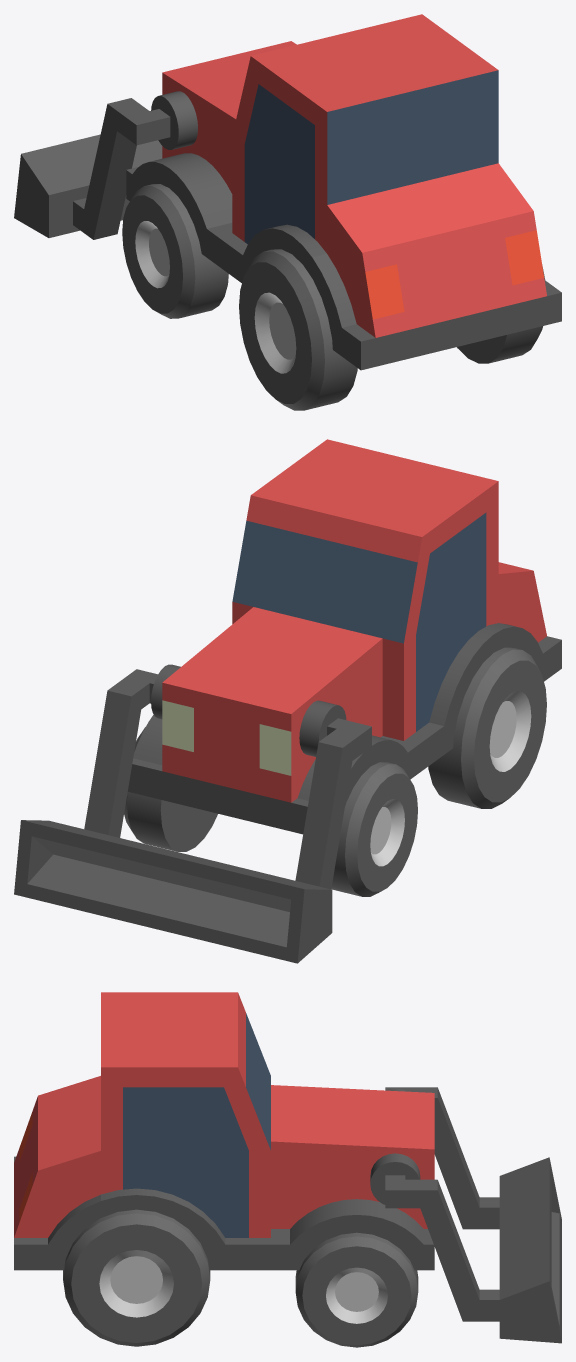
The model's file is carTractorShovel.fbx.
3 renders of one model, top to bottom at view 1: azimuth 30°, elevation 25°; view 2: azimuth 150°, elevation 25°; view 3: azimuth 270°, elevation 25°, orthographic. The views are drawn at different scales.
Visible parts, largest first — view 1: body 10, shovel, wheelBackLeft 10, wheelFrontLeft 10, wheelBackRight 10; view 2: body 10, shovel, wheelBackLeft 10, wheelFrontLeft 10, wheelFrontRight 10; view 3: body 10, shovel, wheelBackRight 10, wheelFrontRight 10.
Boxes of the visible parts, bbox=[...] form: body 10: bbox=[126, 14, 561, 370]; shovel: bbox=[14, 91, 197, 239]; wheelBackLeft 10: bbox=[239, 249, 357, 410]; wheelFrontLeft 10: bbox=[122, 184, 228, 318]; wheelBackRight 10: bbox=[457, 266, 545, 363]; body 10: bbox=[128, 439, 561, 834]; shovel: bbox=[14, 664, 371, 963]; wheelBackLeft 10: bbox=[428, 647, 546, 808]; wheelFrontLeft 10: bbox=[331, 762, 417, 896]; wheelFrontRight 10: bbox=[124, 727, 217, 851]; body 10: bbox=[14, 992, 434, 1270]; shovel: bbox=[370, 1087, 561, 1343]; wheelBackRight 10: bbox=[63, 1209, 210, 1346]; wheelFrontRight 10: bbox=[295, 1232, 418, 1347].
Bounding box in the file's own units: 6.7 × 6.83 × 12.5.
